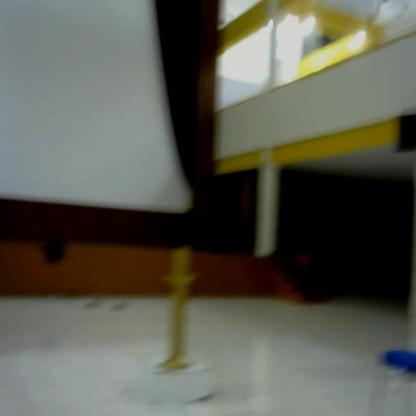pole: (157, 247, 204, 375)
